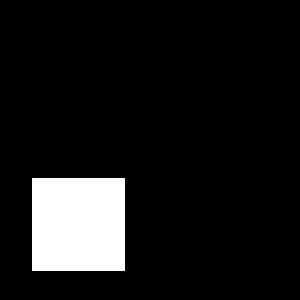circle: (32, 178, 125, 271)
